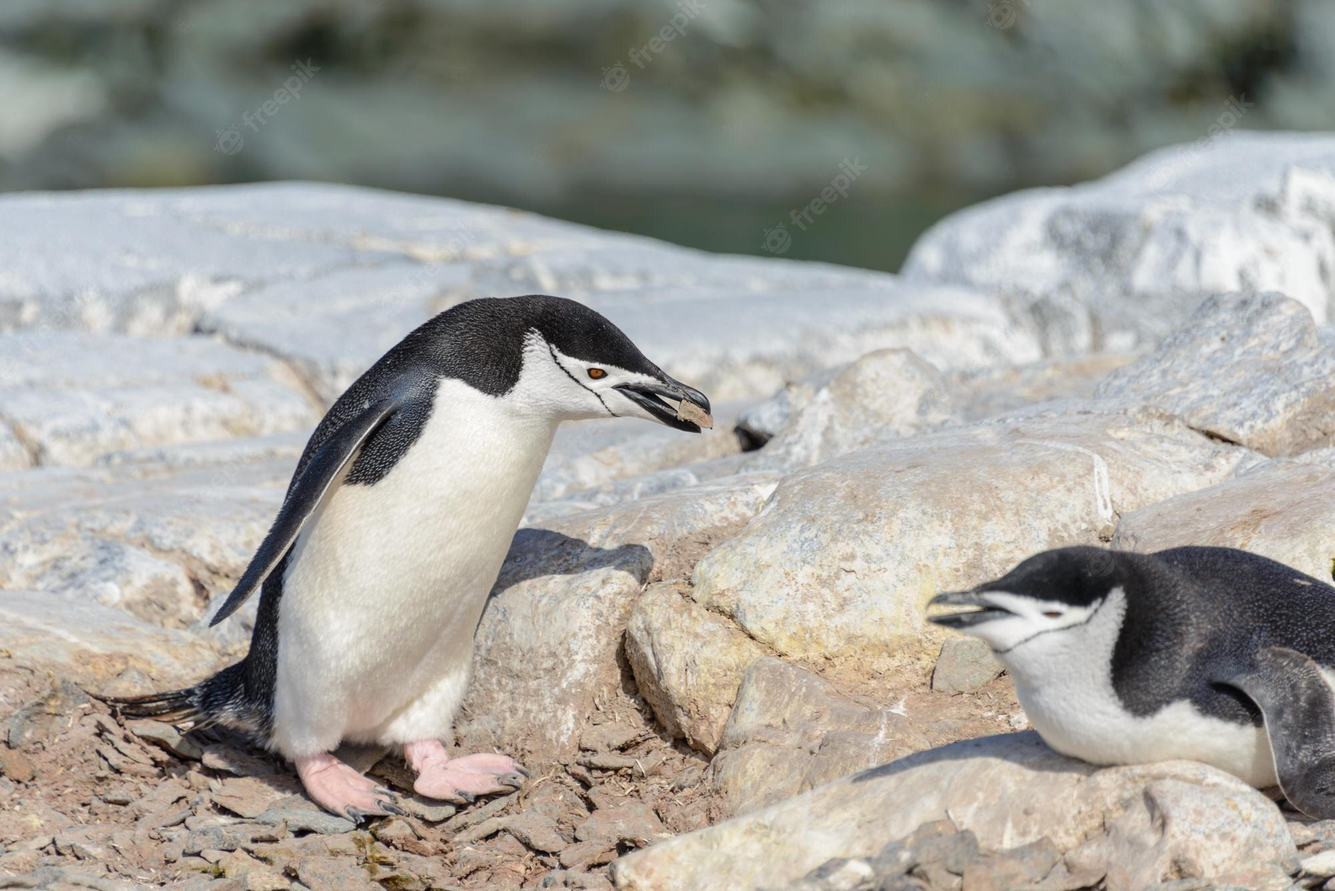Penguin: (123, 294, 712, 821), (927, 545, 1334, 818)
